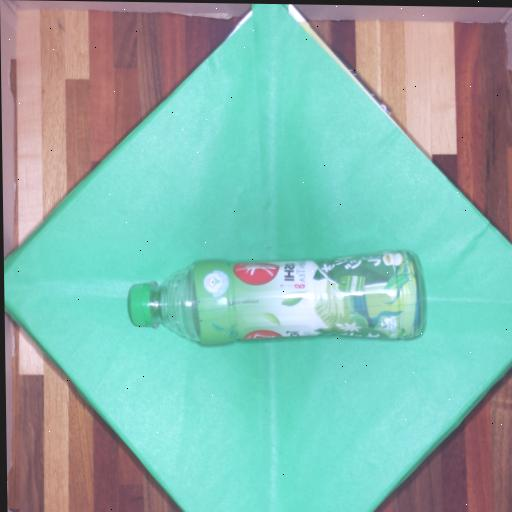bottle: (128, 252, 420, 344)
